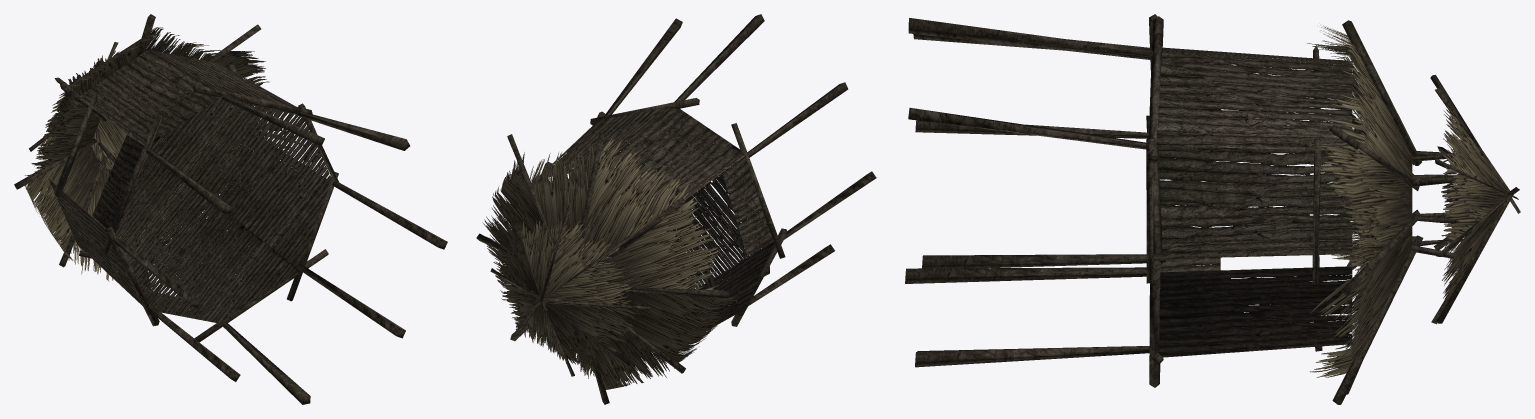
Rendered from Shack_04_LOD_02.fbx.
3 views of the same model, side by side, from view 1: azimuth 30°, elevation 25°; view 2: azimuth 150°, elevation 25°; view 3: azimuth 270°, elevation 25° (orthographic). The views are drawn at different scales.
Visible parts, largest first — view 1: MEP_Shack_04_LOD_02; view 2: MEP_Shack_04_LOD_02; view 3: MEP_Shack_04_LOD_02.
Boxes of the visible parts, box(x1,y1,x2,y2) form: MEP_Shack_04_LOD_02: box(14, 14, 447, 404); MEP_Shack_04_LOD_02: box(476, 14, 876, 404); MEP_Shack_04_LOD_02: box(905, 14, 1520, 404).
Bounding box in the file's own units: 8.23 × 8.08 × 11.92.
